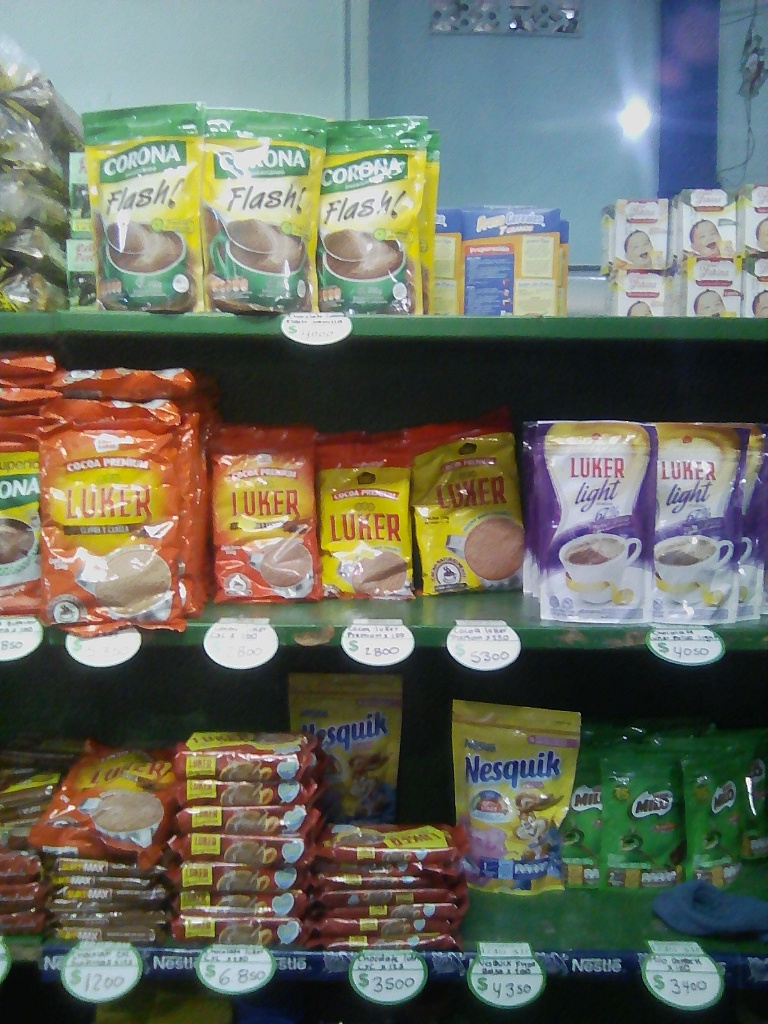COL0170203DYP10000: (684, 737, 737, 889)
